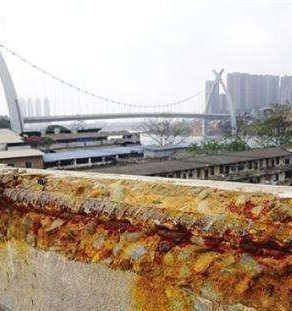Corrosion: (1, 164, 292, 311)
Exposed reinforcement: (1, 186, 292, 251)
